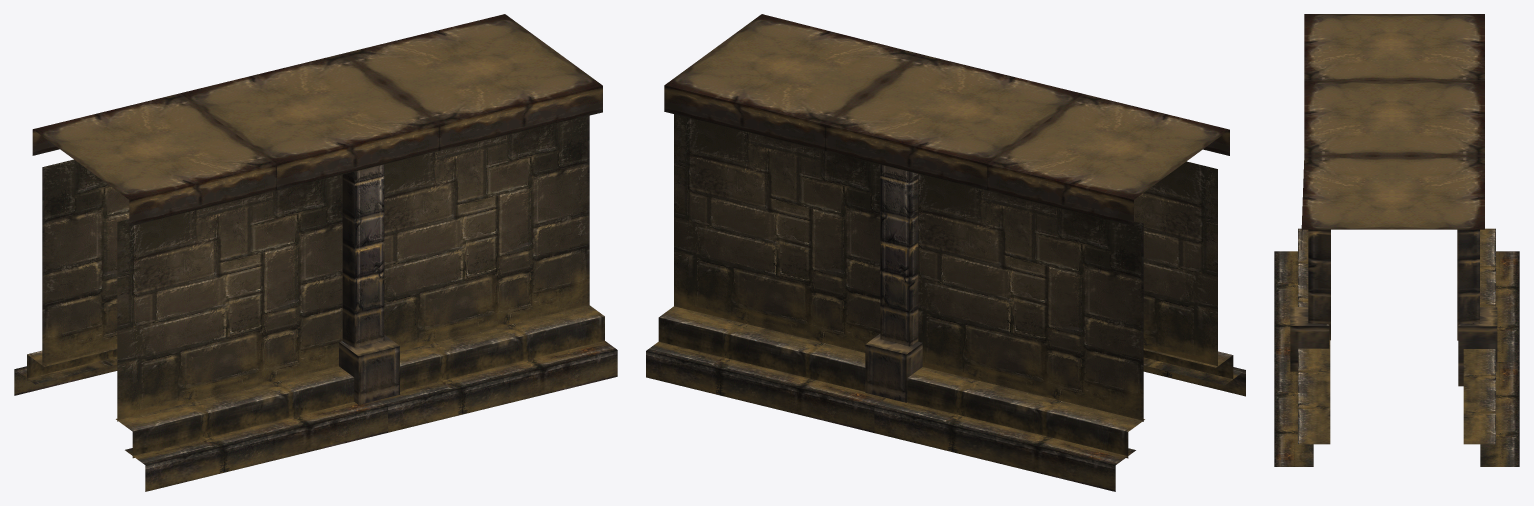
The model's file is 10401_building07.FBX.
The picture shows the model from 3 angles, left to right: view 1: azimuth 30°, elevation 25°; view 2: azimuth 150°, elevation 25°; view 3: azimuth 270°, elevation 25°; orthographic projection. The views are drawn at different scales.
Visible parts, largest first — view 1: 10401_building07; view 2: 10401_building07; view 3: 10401_building07.
Part boxes in pixels (x1,y1,x2,y2): 10401_building07: (14, 14, 617, 491); 10401_building07: (646, 14, 1245, 491); 10401_building07: (1274, 14, 1519, 466).
Size of the model in its own units: 774 by 439 by 372.
